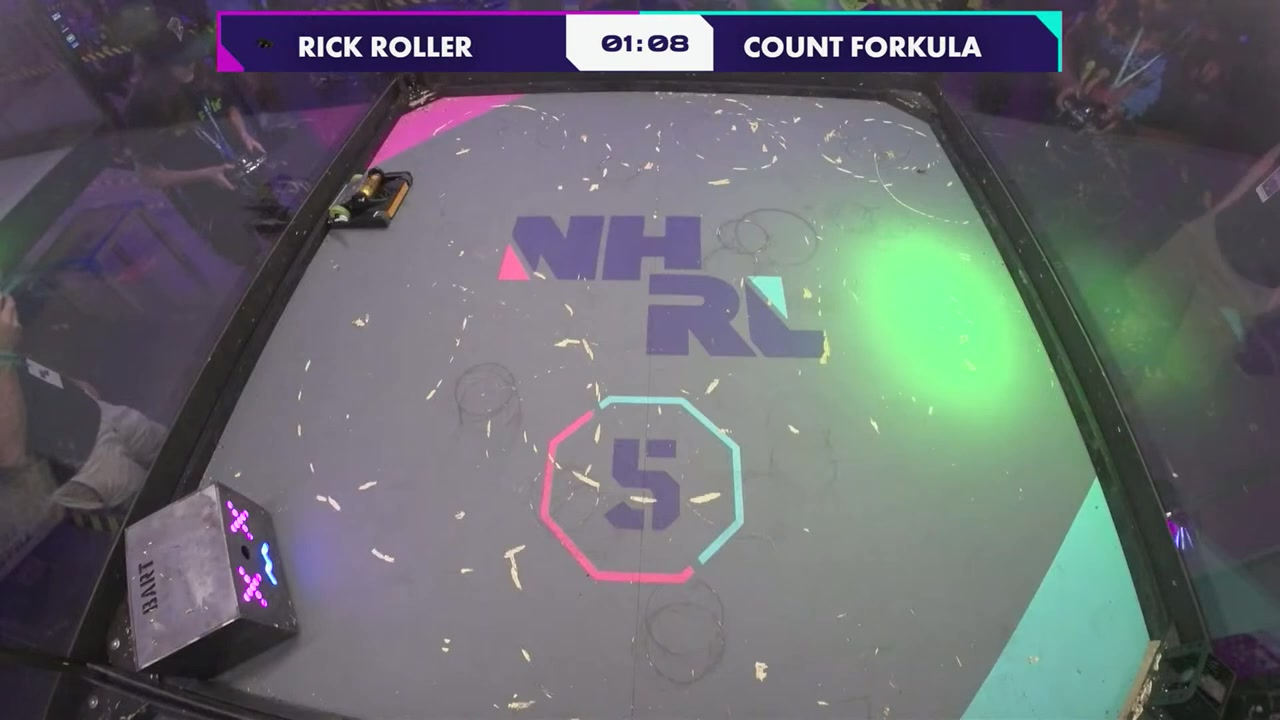combatbot: (328, 167, 414, 231), (334, 169, 383, 220)
housebot: (109, 481, 302, 675)
